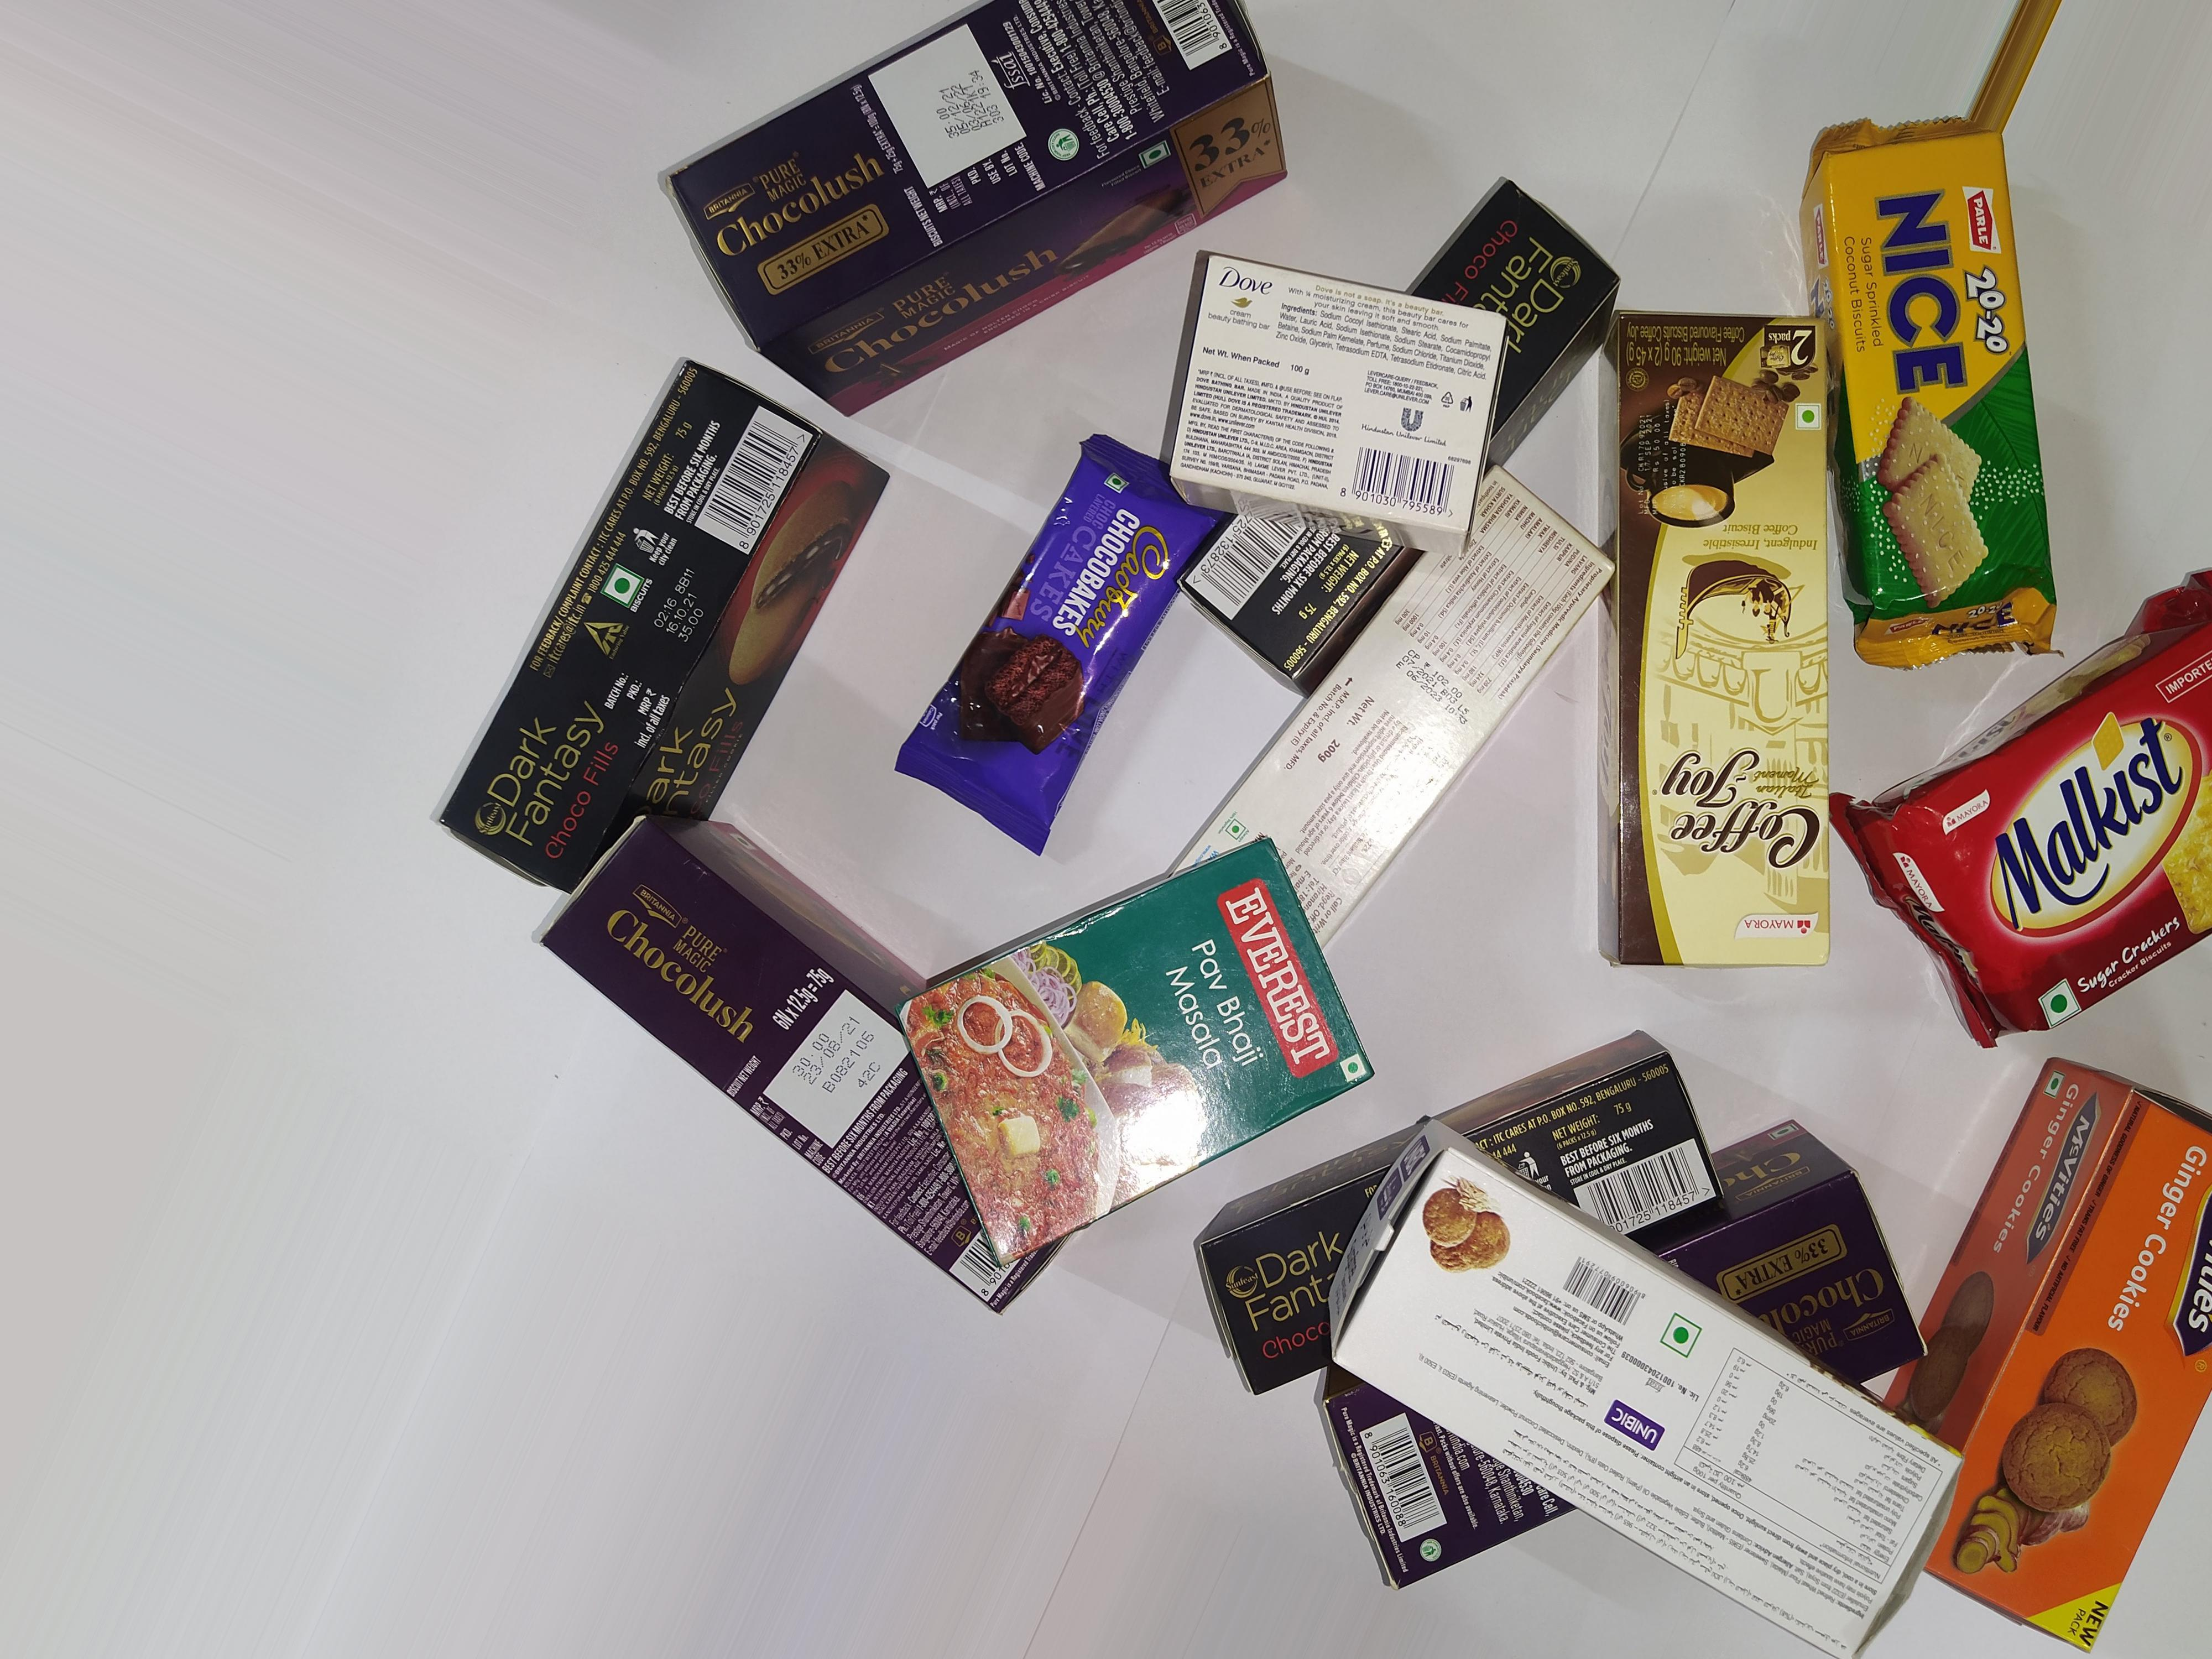Bar_code: (704, 397, 829, 570), (1343, 1415, 1474, 1567), (1197, 507, 1306, 641), (1566, 1145, 1731, 1232), (1350, 446, 1491, 518), (1143, 12, 1245, 84), (1564, 1260, 1653, 1335), (958, 1222, 1024, 1309)
Item: (1348, 1140, 1968, 1659), (524, 817, 1071, 1338), (622, 7, 1301, 371), (437, 357, 853, 903), (1592, 295, 1864, 1018), (1782, 120, 2101, 694), (1923, 1049, 2212, 1654), (1857, 580, 2212, 1070), (927, 854, 1362, 1241), (1308, 471, 1630, 978), (913, 427, 1219, 870), (1174, 249, 1505, 551), (1689, 1133, 1951, 1419), (1439, 1060, 1745, 1249), (1416, 200, 1641, 453)
